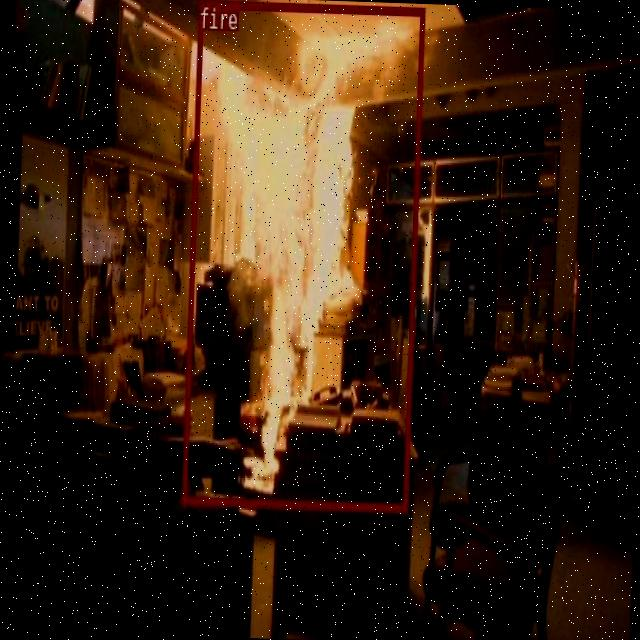fire: (180, 0, 423, 510)
